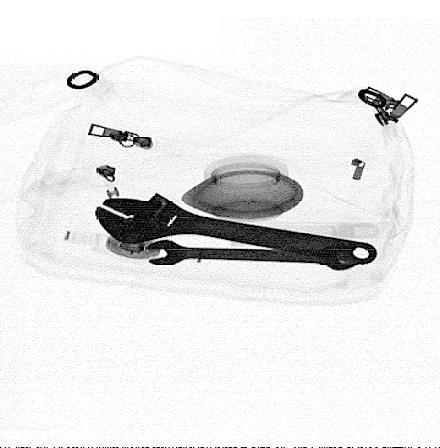Wrench: (95, 193, 380, 266), (145, 239, 363, 272)
